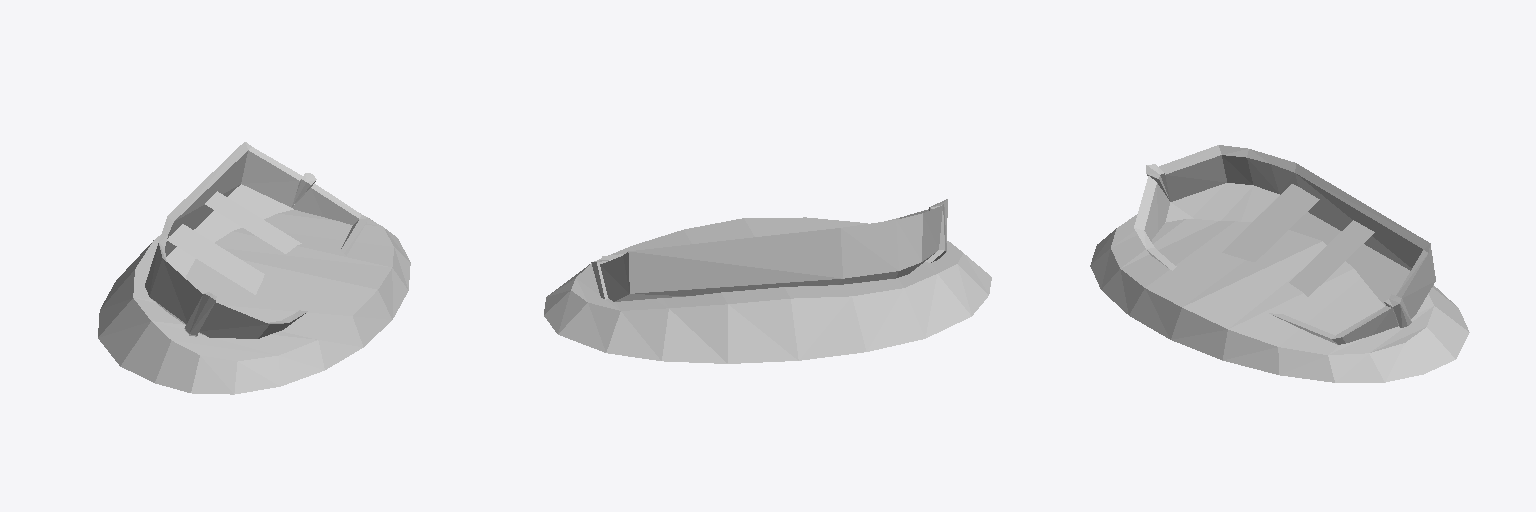
Rendered from boat.obj.
The picture shows the model from 3 angles: view 1: azimuth 30°, elevation 25°; view 2: azimuth 150°, elevation 25°; view 3: azimuth 270°, elevation 25°; orthographic projection.
Parts seen in each view (by area): view 1: pCylinder3; view 2: pCylinder3; view 3: pCylinder3.
Part boxes in pixels (x1,y1,x2,y2): pCylinder3: (98,142,410,394); pCylinder3: (544,199,991,363); pCylinder3: (1090,145,1469,382).
Bounding box in the file's own units: 3.95 × 1.19 × 3.82.